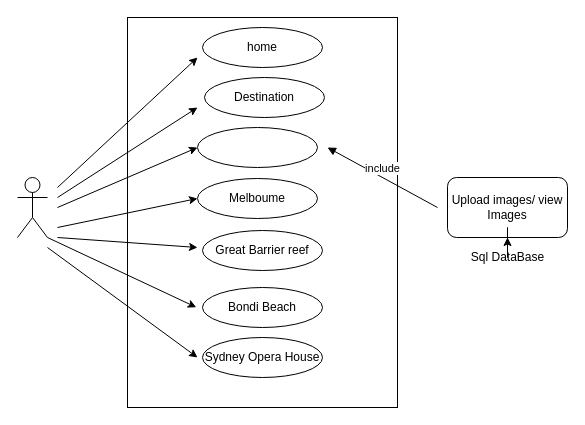
The diagram is 585 pixels wide and 425 high, and some of its shapes have lost their labels. The box of each missing label's shape, as (x1, y1, x2, y2) in pixels:
Actor: (16, 176, 48, 238)
Gallery: (196, 126, 318, 168)
